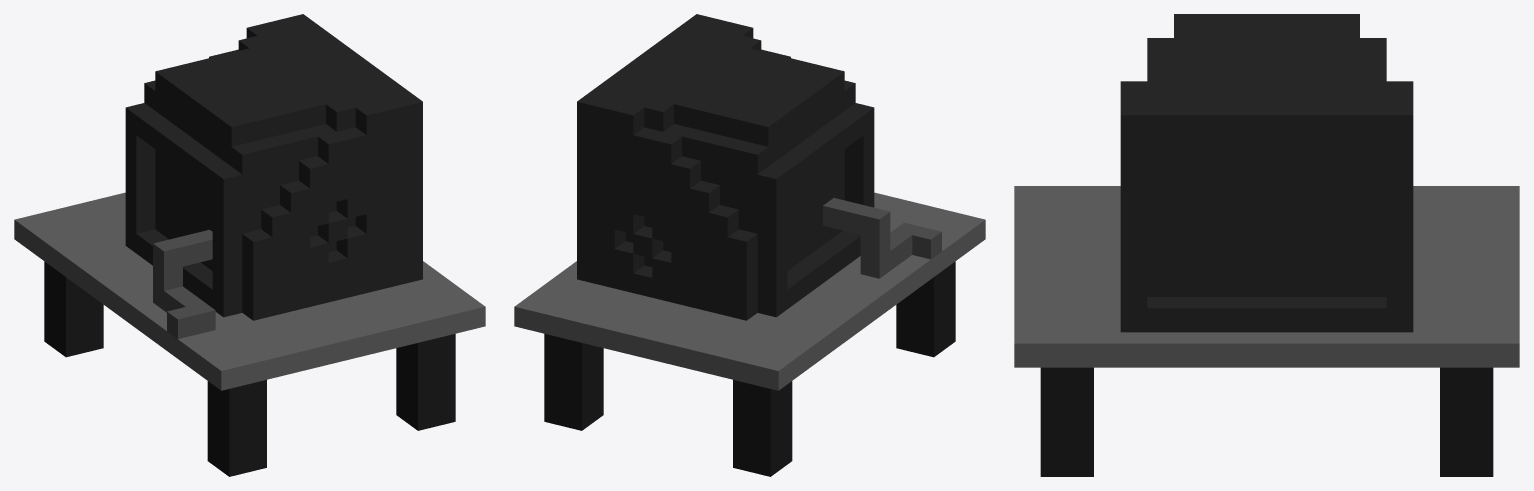
File: BedroomandMainRoom-4.obj
The picture shows the model from 3 angles, left to right: view 1: azimuth 30°, elevation 25°; view 2: azimuth 150°, elevation 25°; view 3: azimuth 270°, elevation 25°; orthographic projection. The views are drawn at different scales.
Size of the model in its own units: 1.4 by 1.5 by 1.9.
Materials: 1 (1 with a texture image).
